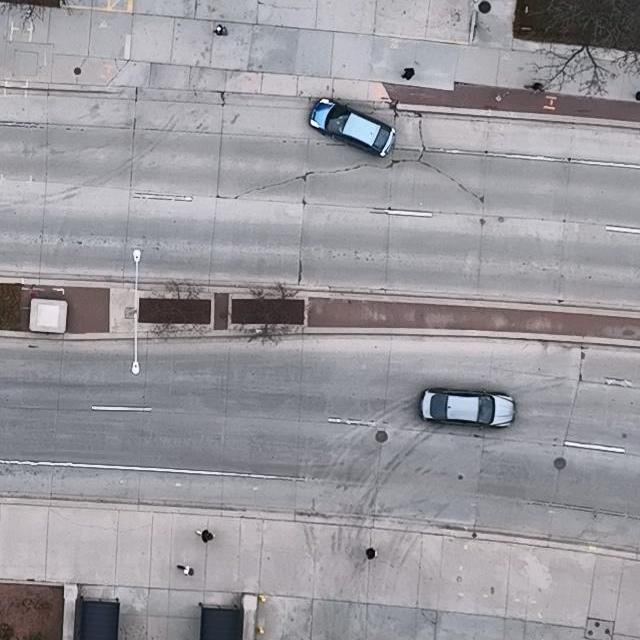car: (309, 97, 396, 156), (418, 387, 516, 430)
